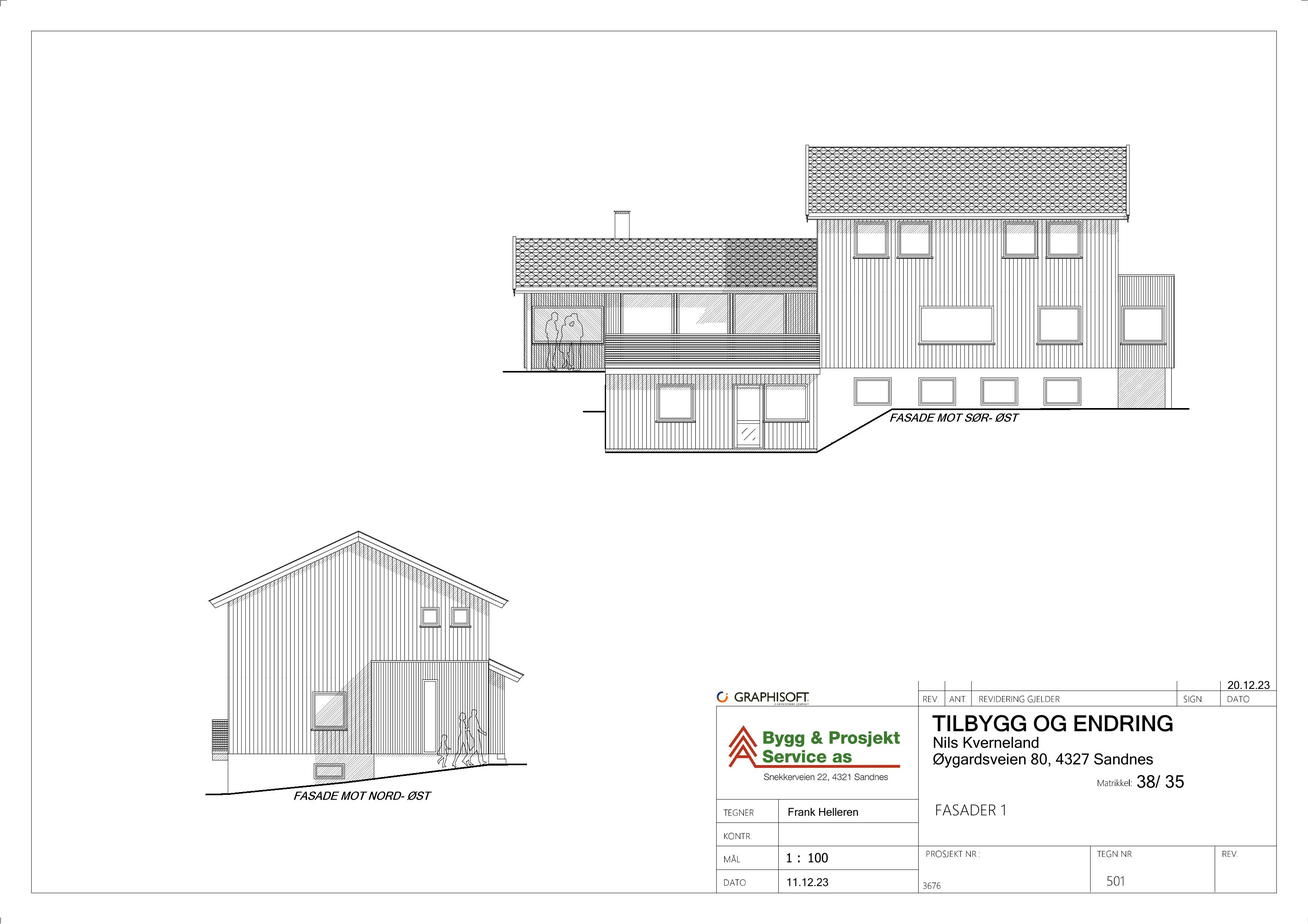fasade: (511, 142, 1179, 459), (207, 529, 525, 799)
